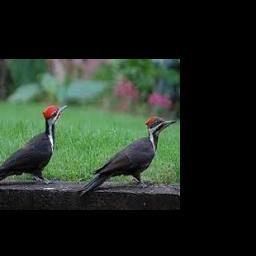Woodpecker: (78, 116, 177, 195), (0, 104, 69, 185)
